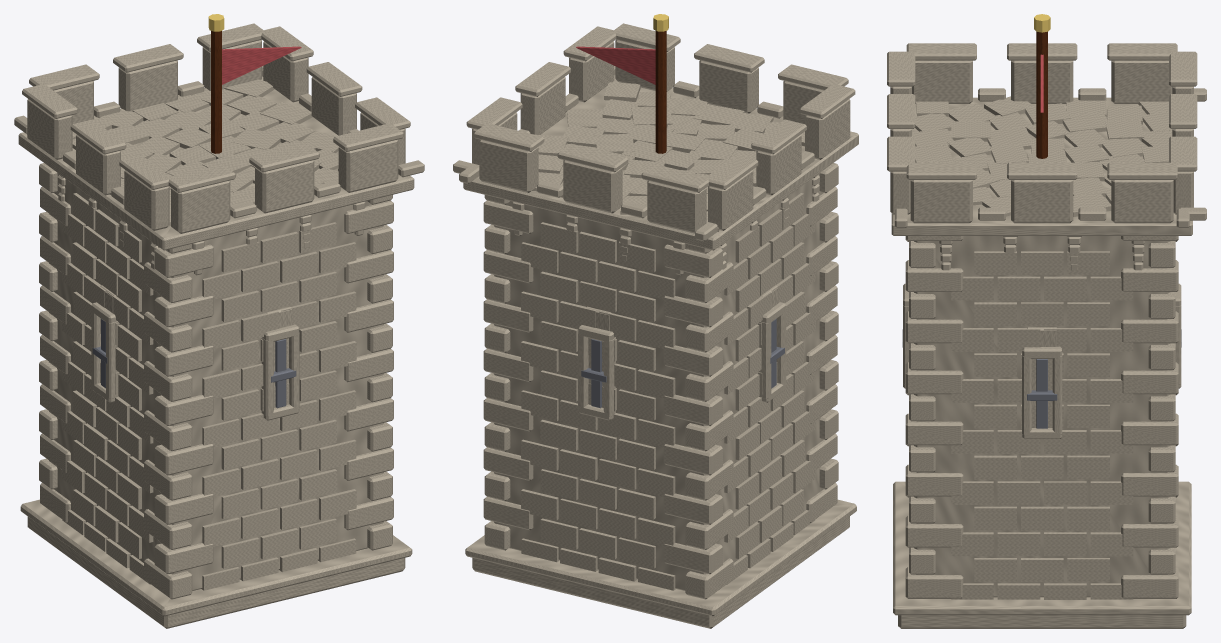
File: fantasy-mmo-city-and-townsfolk-wall-corner-tower-46fd417b__32720.glb
3 renders of one model, left to right at view 1: azimuth 30°, elevation 25°; view 2: azimuth 150°, elevation 25°; view 3: azimuth 270°, elevation 25°, orthographic. The views are drawn at different scales.
Parts seen in each view (by area): view 1: wall-corner-tower, pennant/red, pennant/timber; view 2: wall-corner-tower, pennant/red, pennant/timber; view 3: wall-corner-tower, pennant/timber.
Boxes of the visible parts, box(x1,y1,x2,y2) form: wall-corner-tower: box(14, 23, 424, 628); pennant/red: box(222, 46, 301, 84); pennant/timber: box(211, 31, 221, 153); wall-corner-tower: box(453, 23, 858, 628); pennant/red: box(576, 46, 655, 84); pennant/timber: box(655, 31, 666, 153); wall-corner-tower: box(887, 43, 1206, 628); pennant/timber: box(1036, 31, 1047, 158).
Bounding box in the file's own units: 4.99 × 9.5 × 4.99.
5 materials, 3 textured.
